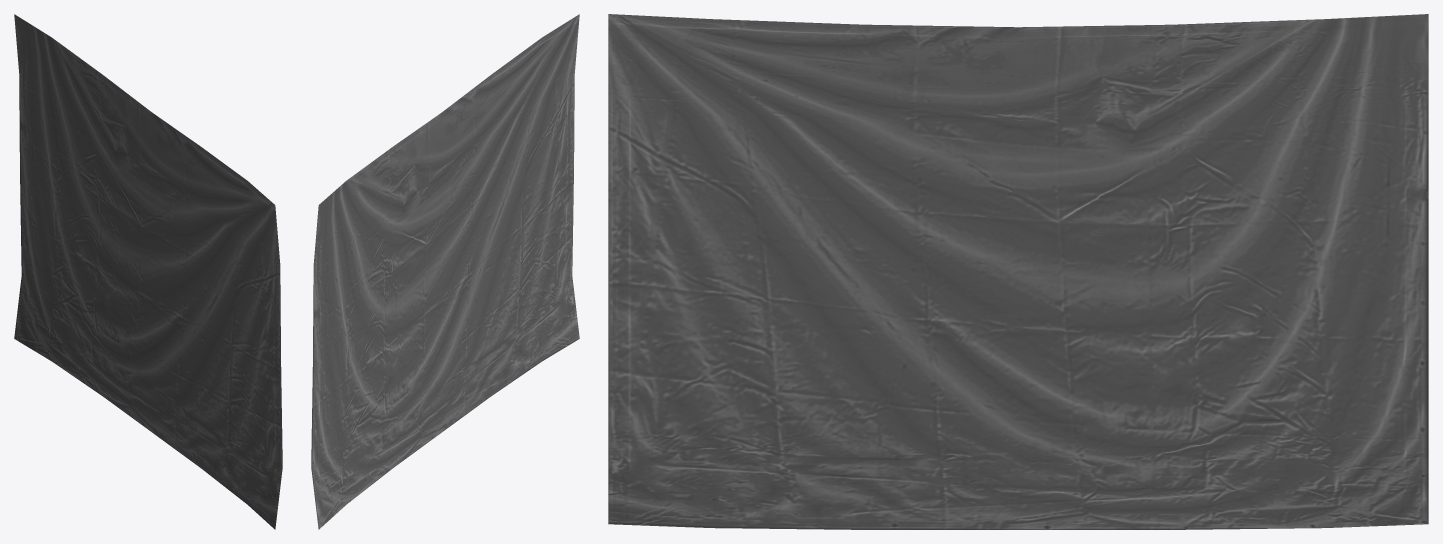
Rendered from prp_tarp_geo.fbx.
3 views of the same model, side by side, from view 1: azimuth 30°, elevation 25°; view 2: azimuth 150°, elevation 25°; view 3: azimuth 270°, elevation 25° (orthographic). The views are drawn at different scales.
Parts seen in each view (by area): view 1: prp_tarp_geo; view 2: prp_tarp_geo; view 3: prp_tarp_geo.
Part boxes in pixels (x1=…): prp_tarp_geo: x1=14, y1=14, x2=282, y2=529; prp_tarp_geo: x1=311, y1=14, x2=579, y2=529; prp_tarp_geo: x1=608, y1=14, x2=1428, y2=529.
Size of the model in its own units: 7.46 by 217 by 316.
